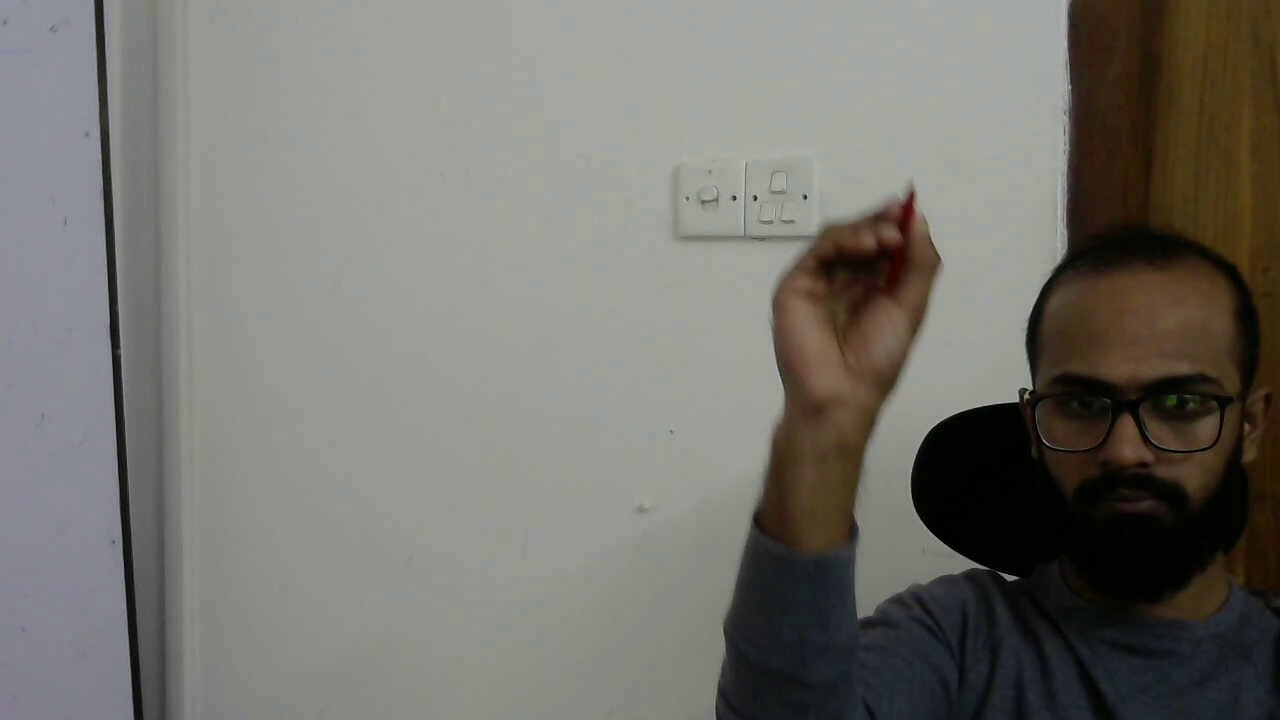pointer: (767, 198, 945, 332)
